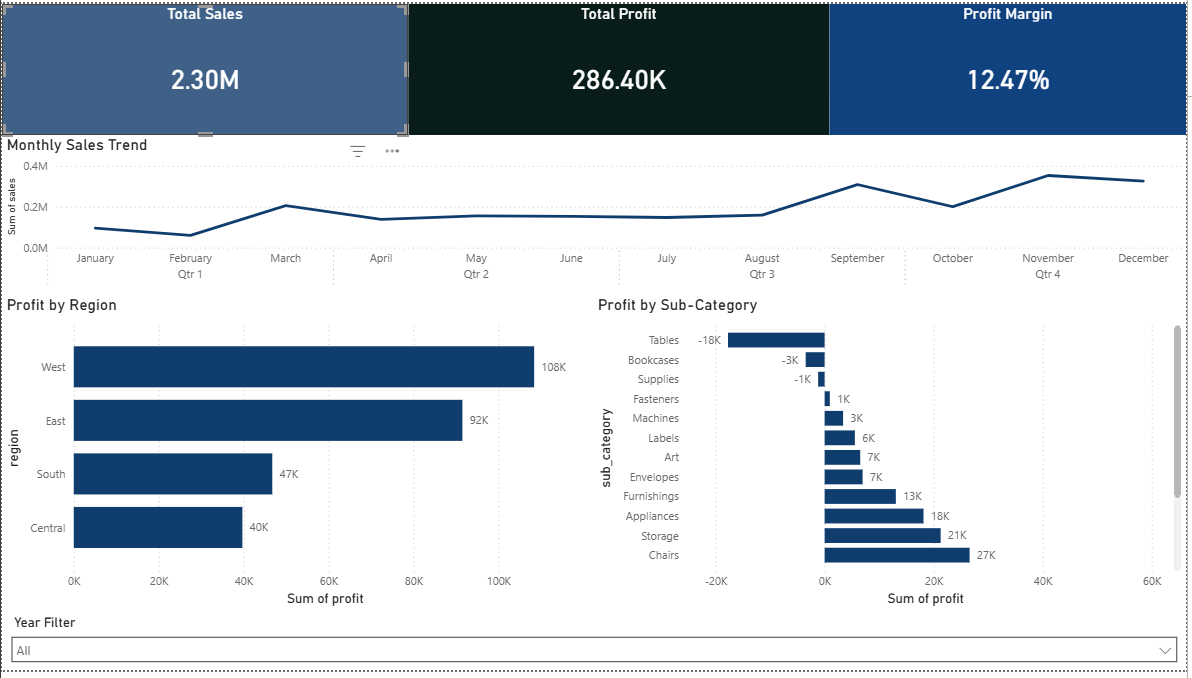

This screenshot's page, from the dashboard's own definition file:
{"tool":"powerbi","page":{"name":"Page 1","canvas":[1280,720],"ordinal":0},"visuals":[{"type":"card","title":"Total Profit","fields":{"Values":["Sum(public orders.profit)"]},"box":[439.1,0,455.6,141.3],"z":1000},{"type":"card","title":" Profit Margin","fields":{"Values":["public orders.Profit Margin %"]},"box":[894.4,0,385.8,141.7],"z":2000},{"type":"lineChart","title":"Monthly Sales Trend","fields":{"Y":["Sum(public orders.sales)"],"Category":["public orders.order_date.Variation.Date Hierarchy.Quarter","public orders.order_date.Variation.Date Hierarchy.Month"]},"box":[0,141.7,1280.3,172.7],"z":3000},{"type":"clusteredBarChart","title":"Profit by Region","fields":{"Category":["public geography.region"],"Y":["Sum(public orders.profit)"]},"box":[0,314.3,640.8,341.3],"z":4000},{"type":"clusteredBarChart","title":"Profit by Sub-Category","fields":{"Category":["public products.sub_category"],"Y":["Sum(public orders.profit)"]},"box":[639.5,314.3,640.8,341.3],"z":5000},{"type":"slicer","fields":{"Values":["public orders.order_date.Variation.Date Hierarchy.Year","public orders.order_date.Variation.Date Hierarchy.Quarter","public orders.order_date.Variation.Date Hierarchy.Month","public orders.order_date.Variation.Date Hierarchy.Day"]},"box":[0,655.7,1280.3,64.8],"z":6000},{"type":"card","title":"Total Sales","fields":{"Values":["Sum(public orders.sales)"]},"box":[0,0,439.2,141.9],"z":6001}]}

Visuals, with their boxes in screenshot pixels (x1, y1, x2, y2), scaled from the page's 1280x720 canvas onto the 1192x678 screenshot:
"Total Profit" card: [x1=409, y1=0, x2=833, y2=133]
" Profit Margin" card: [x1=833, y1=0, x2=1191, y2=133]
"Monthly Sales Trend" lineChart: [x1=0, y1=133, x2=1191, y2=296]
"Profit by Region" clusteredBarChart: [x1=0, y1=296, x2=597, y2=617]
"Profit by Sub-Category" clusteredBarChart: [x1=596, y1=296, x2=1191, y2=617]
slicer - public orders.order_date.Variation.Date Hierarchy.Year x public orders.order_date.Variation.Date Hierarchy.Quarter: [x1=0, y1=617, x2=1191, y2=677]
"Total Sales" card: [x1=0, y1=0, x2=409, y2=134]
